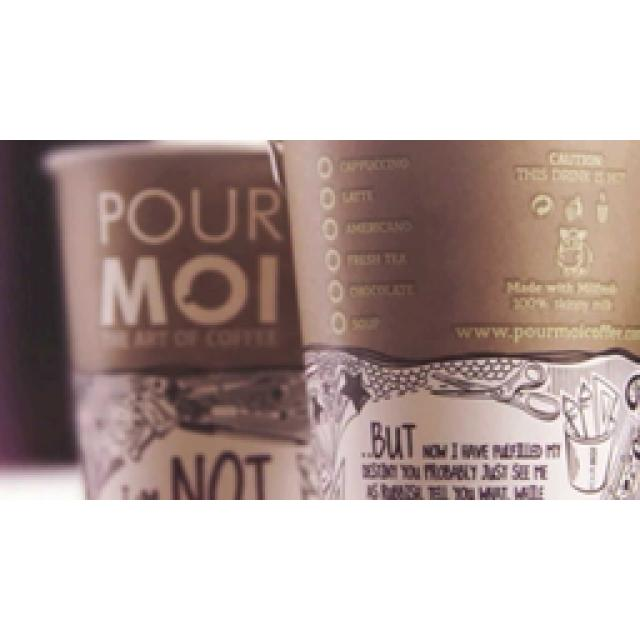paper_cups: (35, 138, 302, 492)
